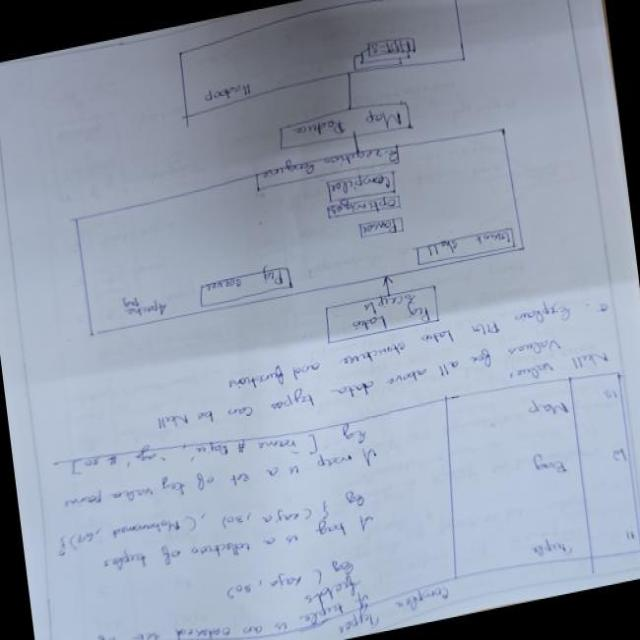Figure Detection - v3 Dataset Version2: (36, 0, 562, 401)
